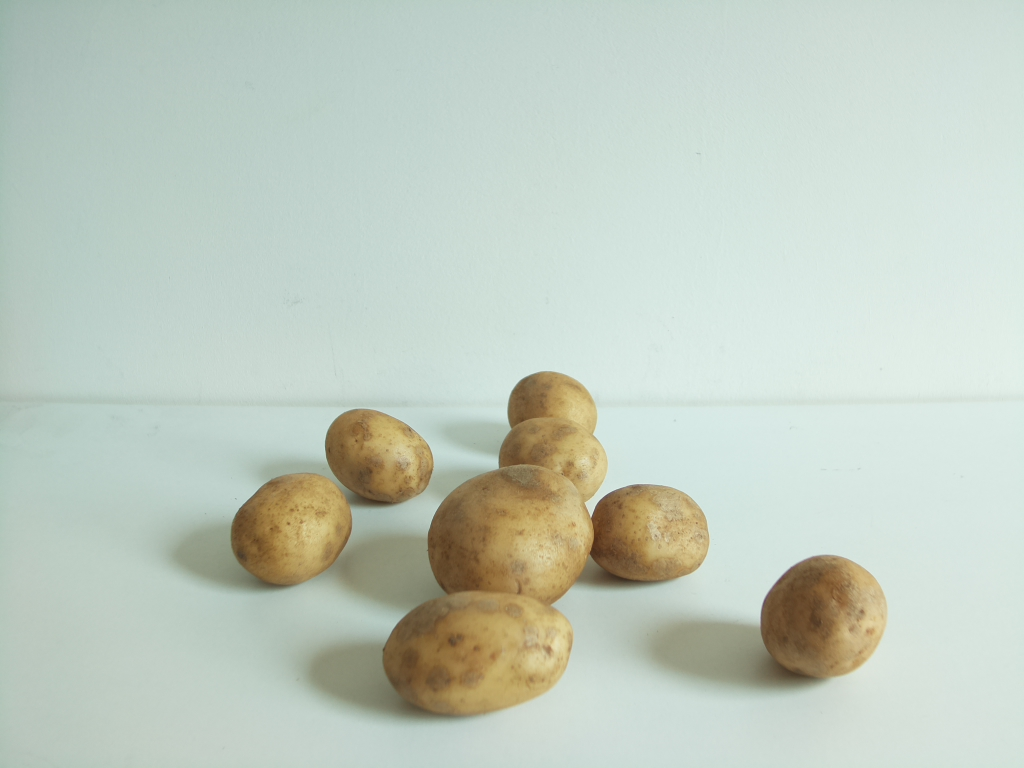potatoes: (375, 371, 706, 717), (224, 469, 360, 589), (761, 554, 887, 680), (326, 408, 433, 503)
